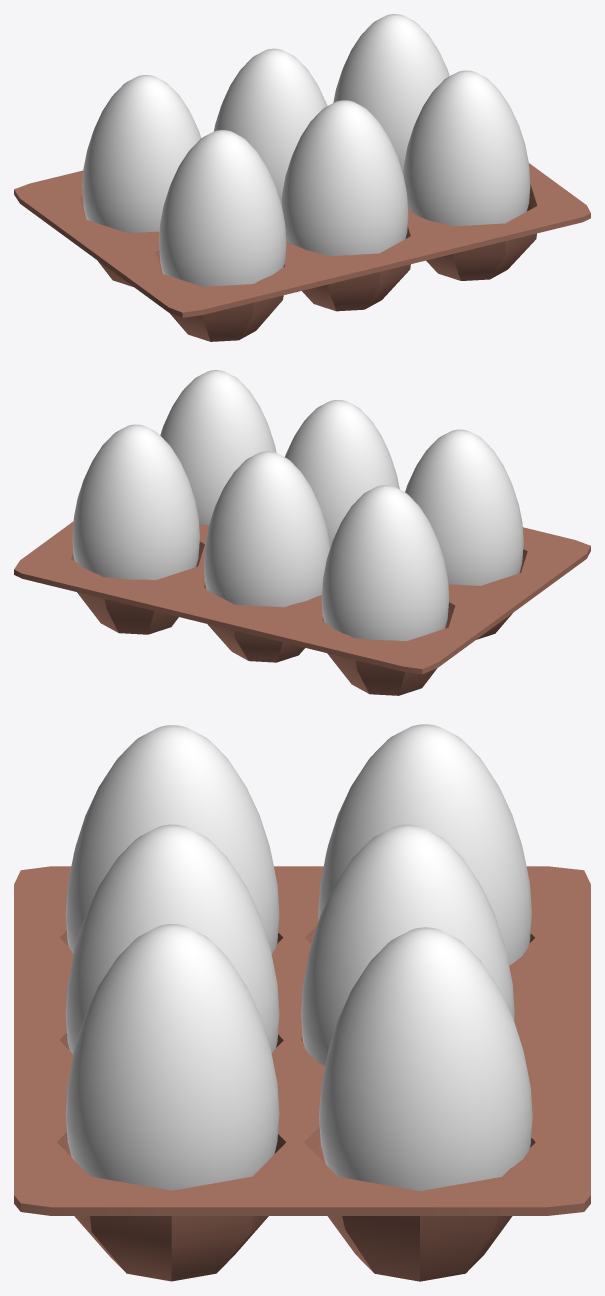
Rendered from food_eggs.glb.
3 renders of one model, top to bottom at view 1: azimuth 30°, elevation 25°; view 2: azimuth 150°, elevation 25°; view 3: azimuth 270°, elevation 25°, orthographic. The views are drawn at different scales.
Visible parts, largest first — view 1: food_eggs; view 2: food_eggs; view 3: food_eggs.
Boxes of the visible parts, x1,y1,x2,y2 form: food_eggs: (14, 14, 590, 341); food_eggs: (14, 370, 590, 695); food_eggs: (14, 724, 590, 1281).
Bounding box in the file's own units: 85.62 × 38 × 61.23.
Materials: 2 (1 with a texture image).
